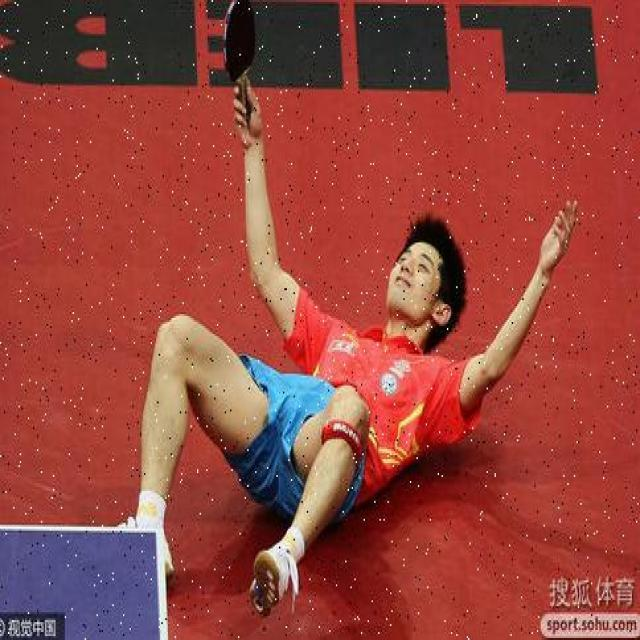fall: (134, 187, 576, 592)
